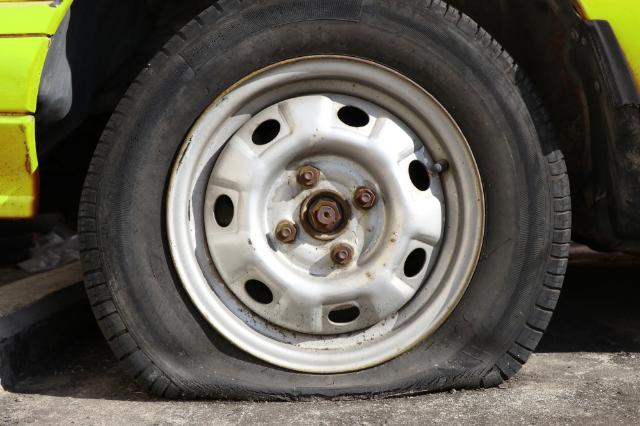tire flat: (77, 0, 575, 404)
